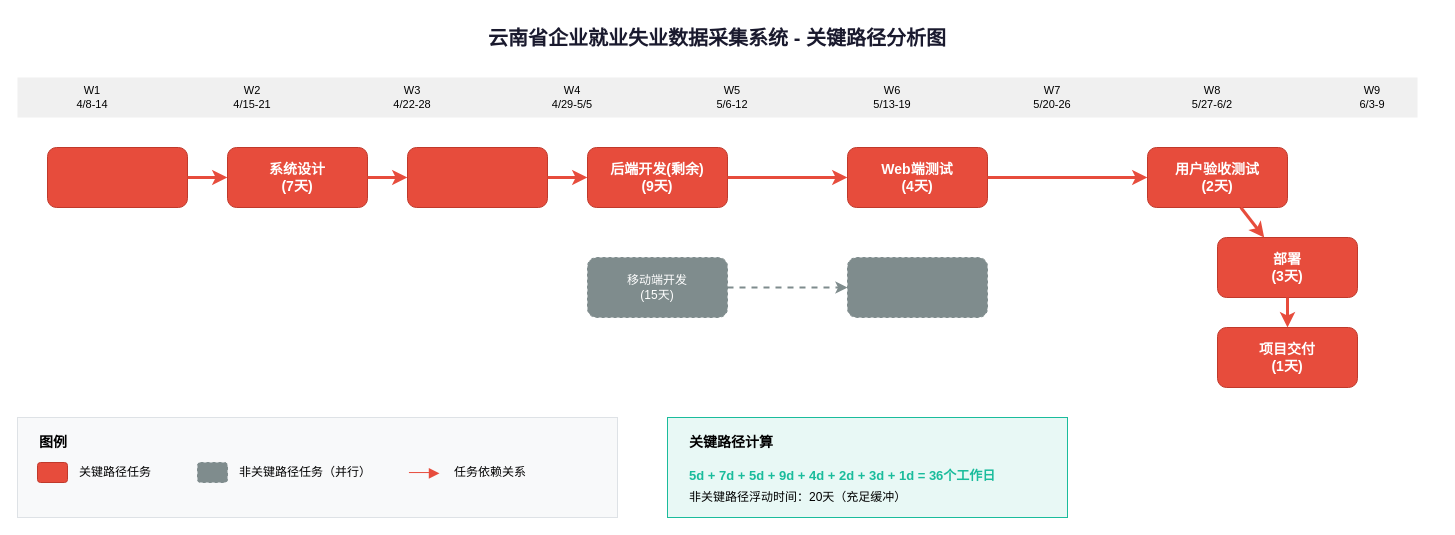
The diagram is 1455 pixels wide and 535 high, and some of its shapes have lost their labels. The centre of each missing label's shape, as x and y in pixels:
后端开发(核心) (5天): pixel 477 177
移动端测试 (5天): pixel 917 287
需求分析 (5天): pixel 117 177
